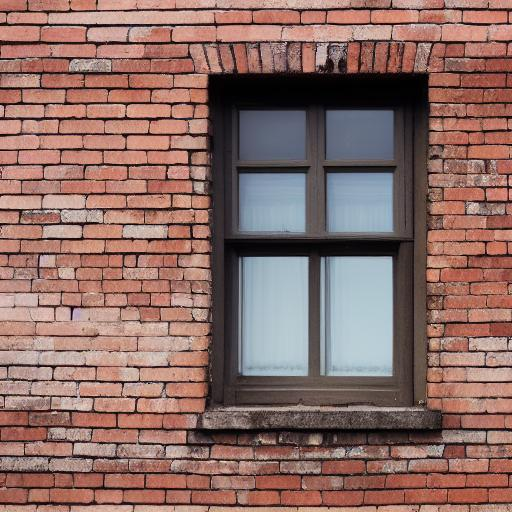Window: (200, 40, 449, 436)
